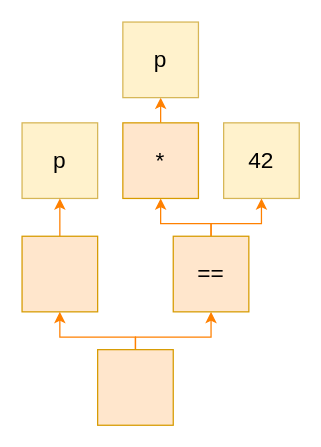
Some shapes in this 321 by 447 pixel diagram are drawn without their labels. Each missing label, with the centre of its shape:
"not" belongs at pixel 59 273.
"or" belongs at pixel 134 386.
